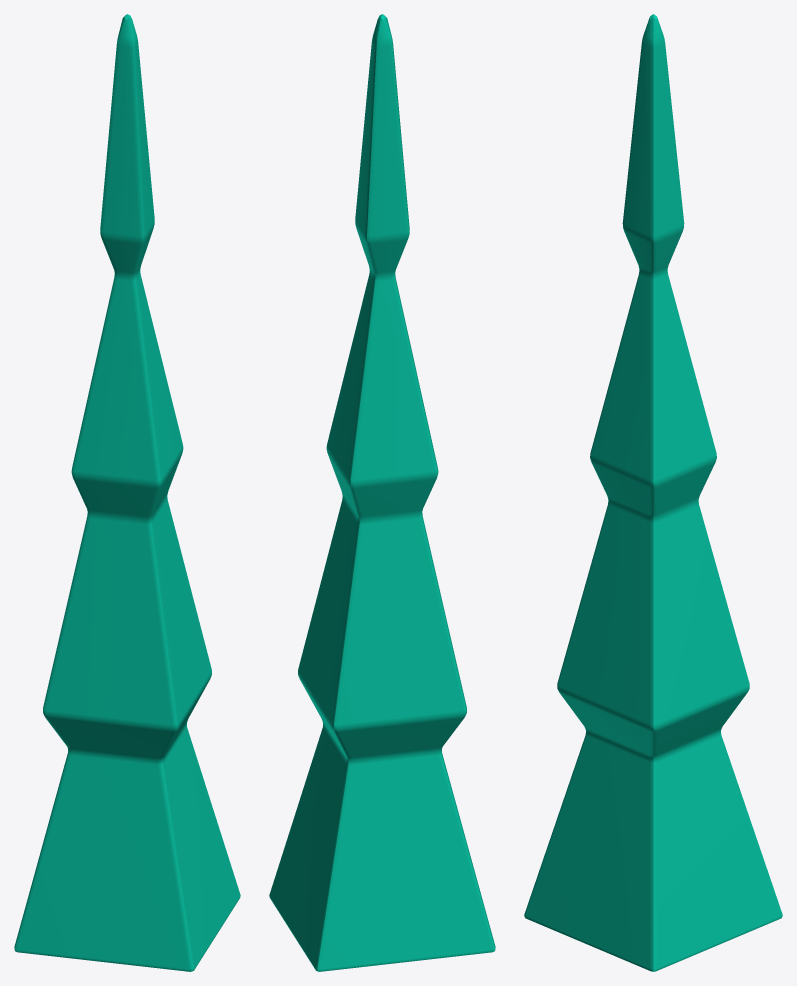
File: pinetree_small_cute1.fbx
The picture shows the model from 3 angles, left to right: view 1: azimuth 30°, elevation 25°; view 2: azimuth 150°, elevation 25°; view 3: azimuth 270°, elevation 25°; orthographic projection.
Parts seen in each view (by area): view 1: pinetree_small_cute1; view 2: pinetree_small_cute1; view 3: pinetree_small_cute1.
Boxes of the visible parts, x1,y1,x2,y2 form: pinetree_small_cute1: [14, 14, 240, 971]; pinetree_small_cute1: [269, 14, 495, 971]; pinetree_small_cute1: [524, 14, 782, 971].
Size of the model in its own units: 0.9194 by 3.55 by 0.9194.
